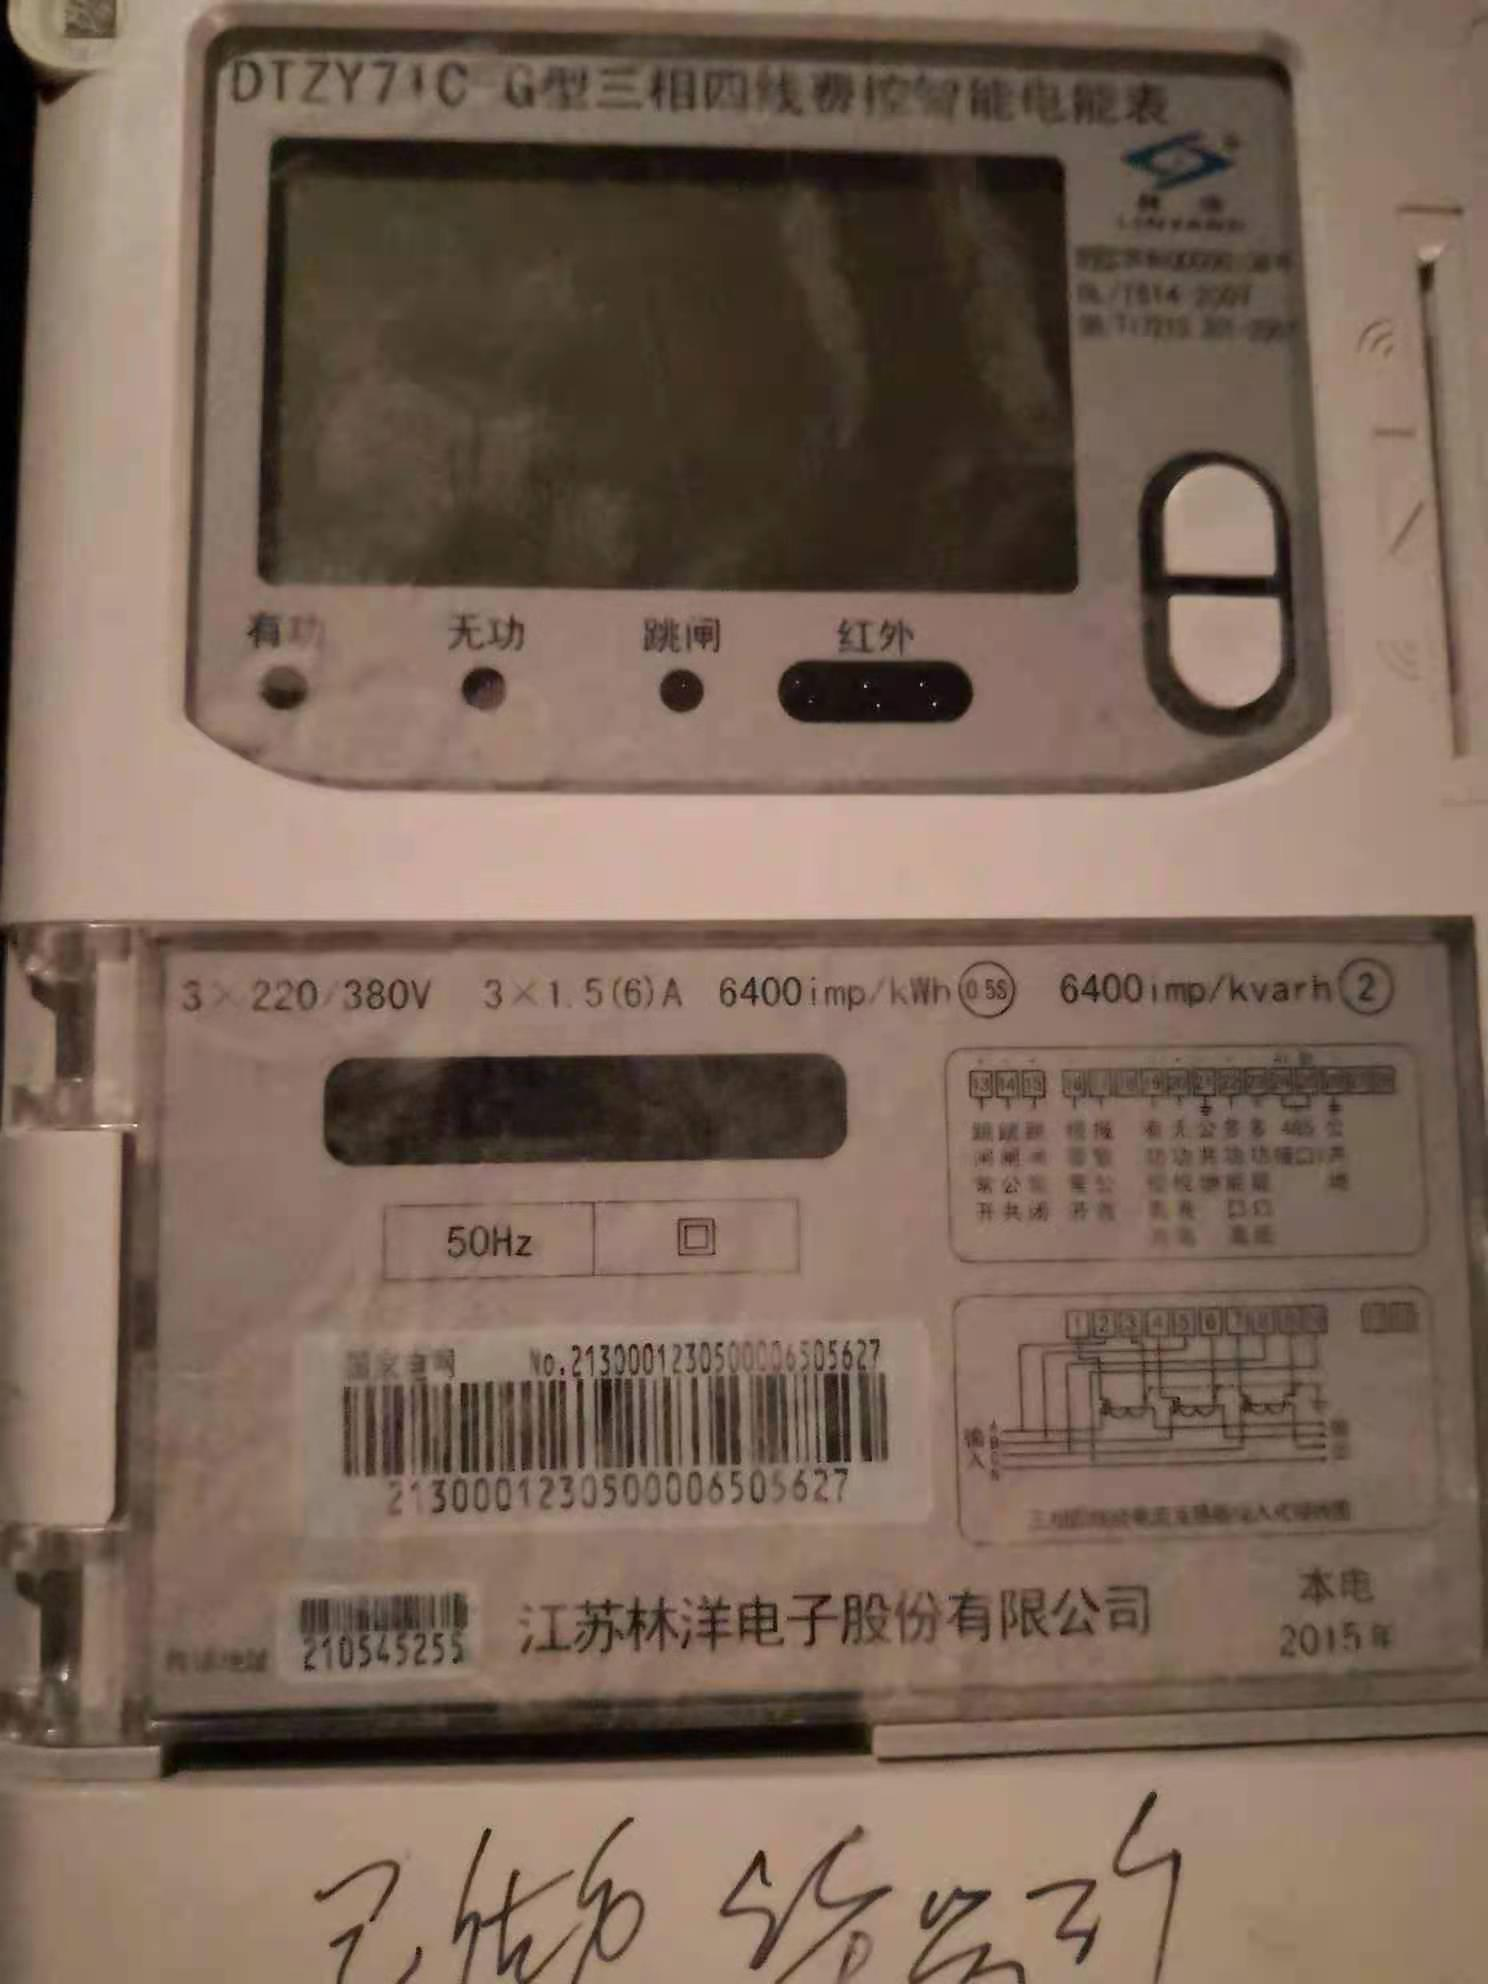digital: (2, 5, 1486, 1757)
